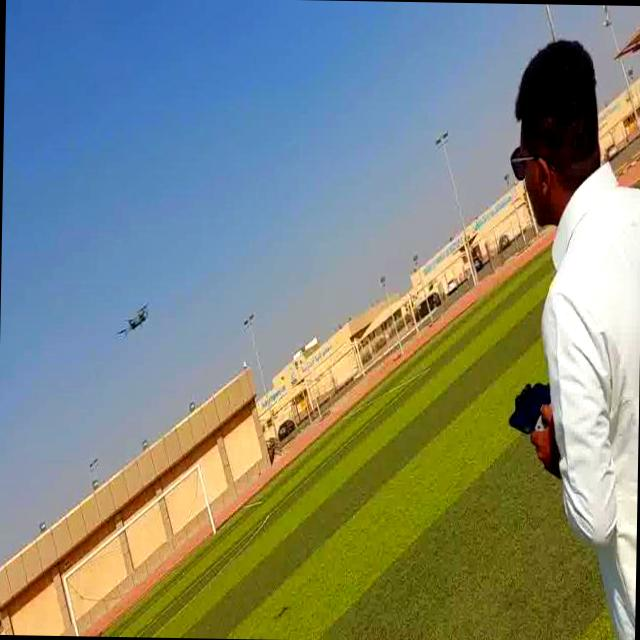drone: (116, 298, 152, 340)
